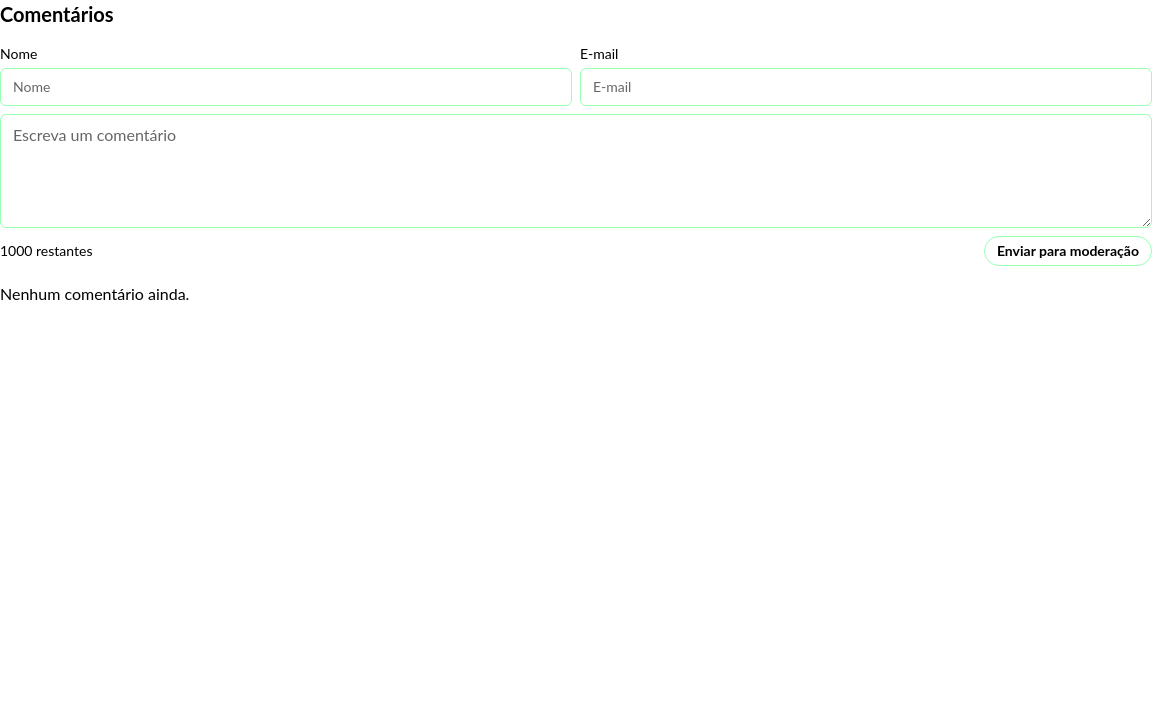
shows the moderation notice when automatic approval is off
Type "Ada" into the field labelled "Nome" at (286, 87), box 0,68 -> 572,106
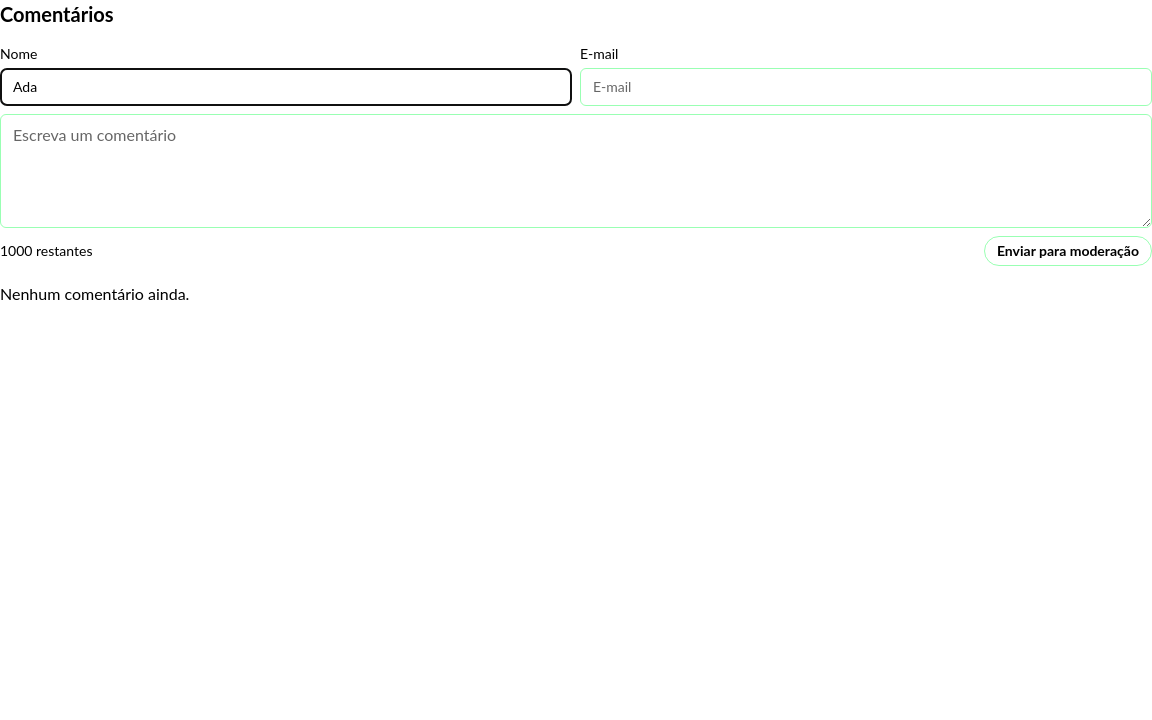
Type "ada@example.com" into the field labelled "E-mail" at (866, 87), box 580,68 -> 1151,106
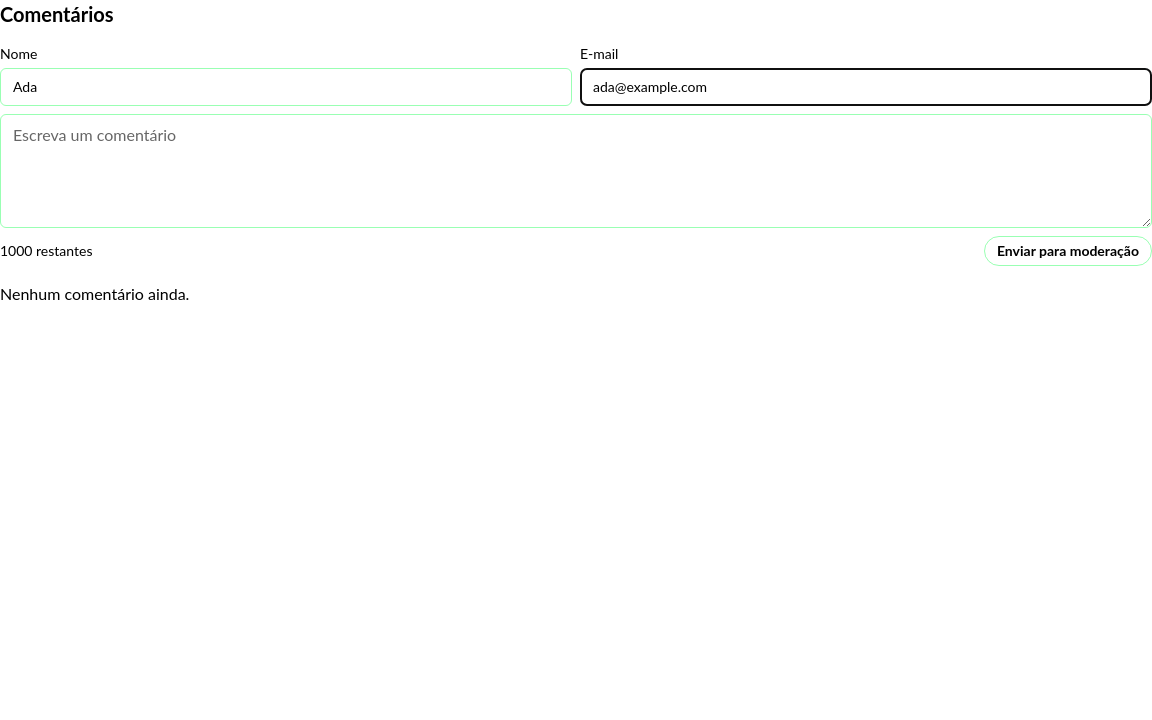
Type "Olá" into the text box labelled "Escreva um comentário" at (576, 171), box 0,114 -> 1151,228
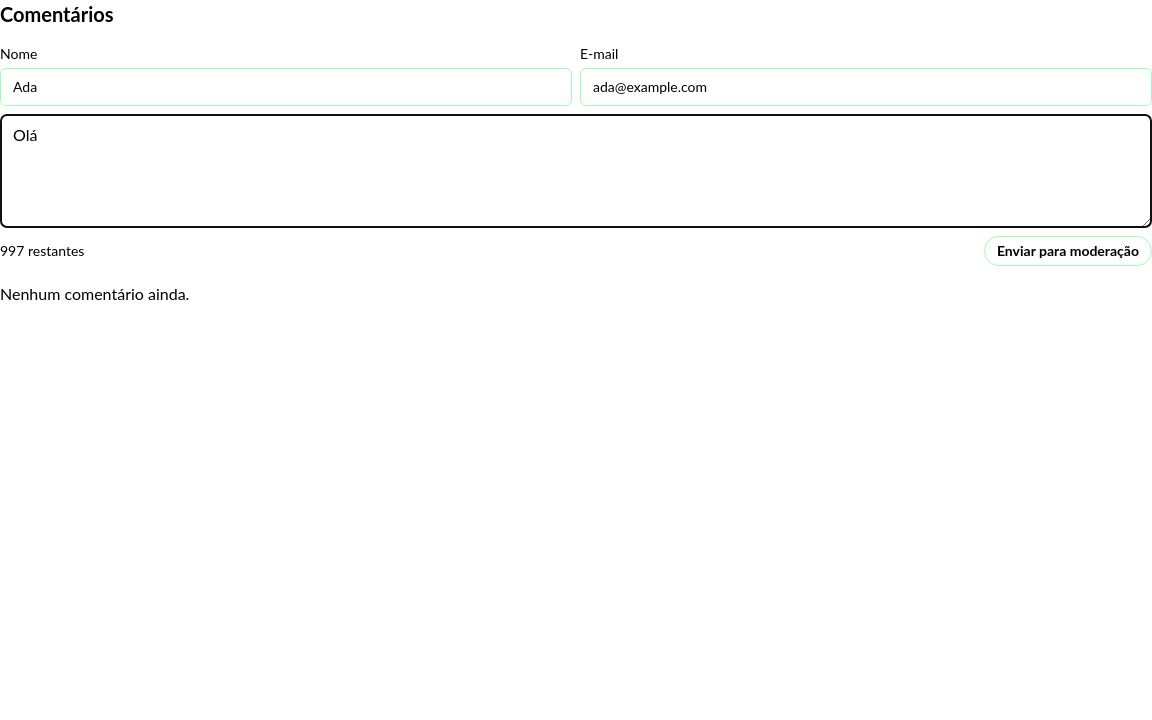
Click the button "Enviar para moderação" at (1068, 251), box 984,236 -> 1151,266
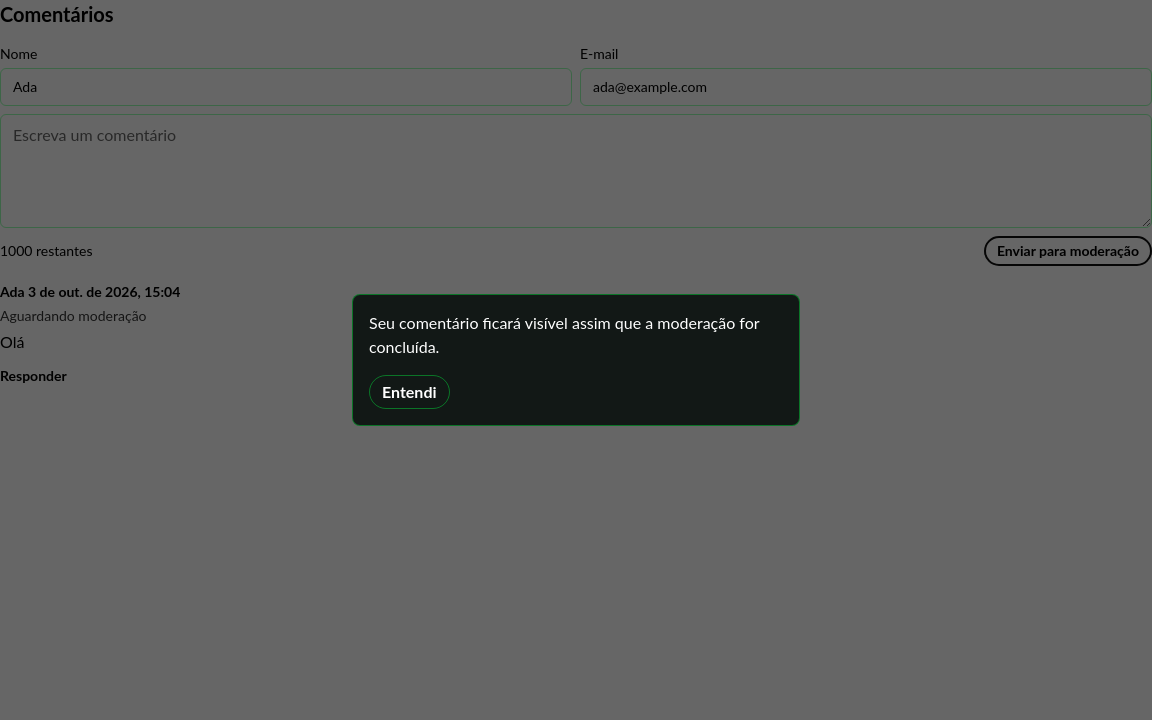
Expected: the text "Seu comentário ficará visível assim que a moderação for concluída." is shown, 369,311 -> 783,359
